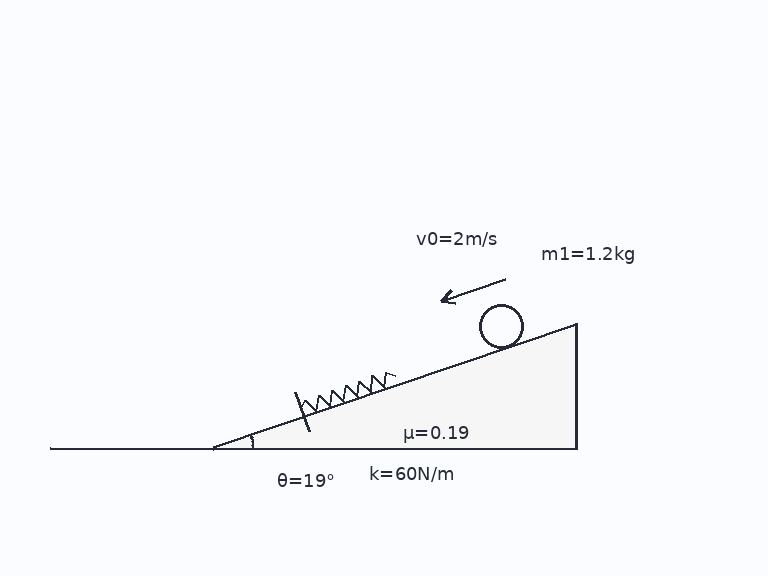ball: (477, 302, 525, 350)
ramp: (211, 321, 578, 450)
spring: (299, 369, 397, 412)
